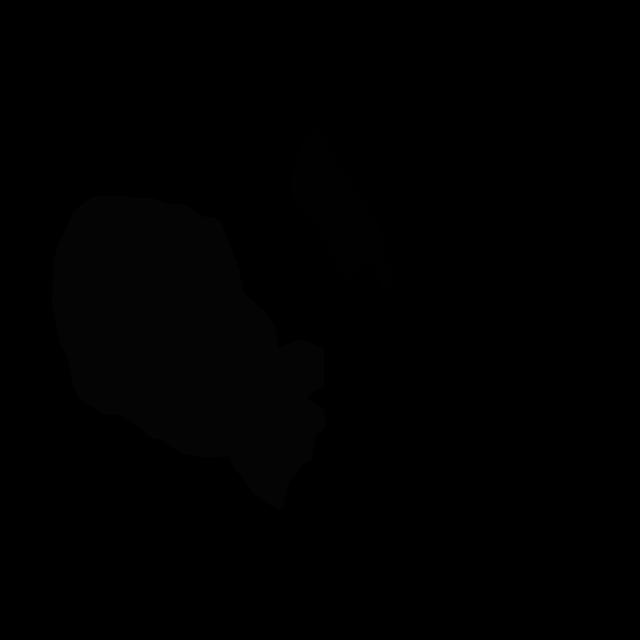rigid_plastic: (290, 127, 396, 298)
soft_plastic: (52, 195, 326, 509)
